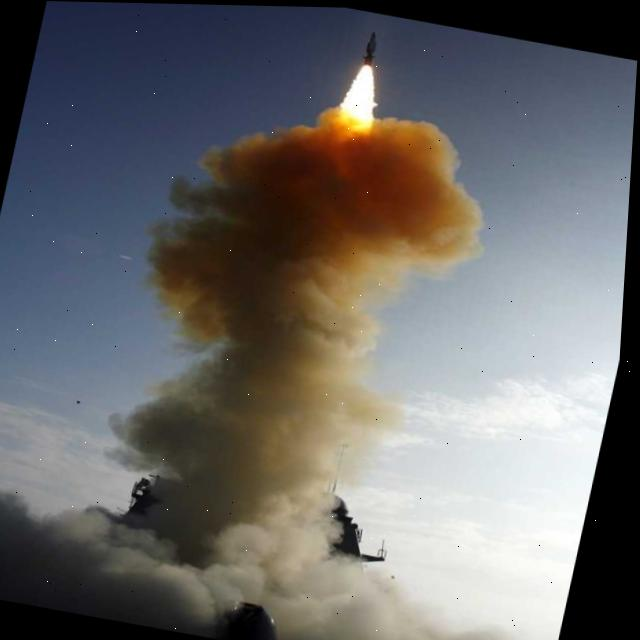missile: (358, 26, 384, 66)
